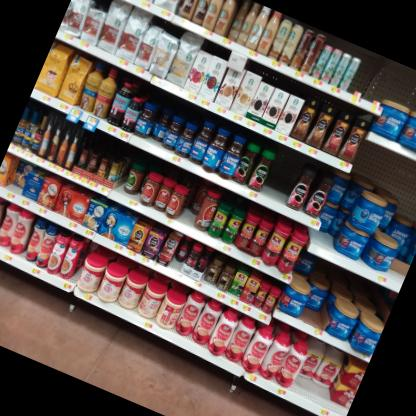empty_space: (258, 151, 301, 207), (349, 54, 382, 102), (367, 66, 394, 108)
